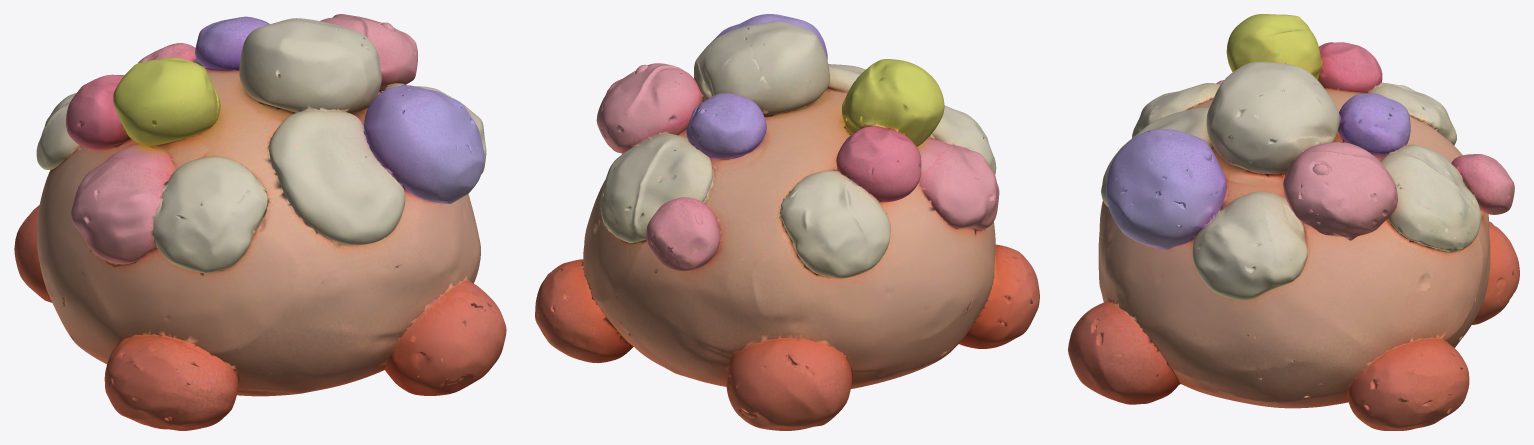
The model's file is env_nest_rocks_01.glb.
3 renders of one model, left to right at view 1: azimuth 30°, elevation 25°; view 2: azimuth 150°, elevation 25°; view 3: azimuth 270°, elevation 25°, orthographic. The views are drawn at different scales.
Visible parts, largest first — view 1: tripo_node_9ba30498-6cfe-4879-bcd9-70db70c37f4d; view 2: tripo_node_9ba30498-6cfe-4879-bcd9-70db70c37f4d; view 3: tripo_node_9ba30498-6cfe-4879-bcd9-70db70c37f4d.
Part boxes in pixels (box(x1,y1,x2,y2)): tripo_node_9ba30498-6cfe-4879-bcd9-70db70c37f4d: box(14, 14, 506, 430); tripo_node_9ba30498-6cfe-4879-bcd9-70db70c37f4d: box(535, 14, 1039, 430); tripo_node_9ba30498-6cfe-4879-bcd9-70db70c37f4d: box(1068, 14, 1519, 430).
Bounding box in the file's own units: 1.38 × 1 × 1.41.
1 material, 1 textured.
